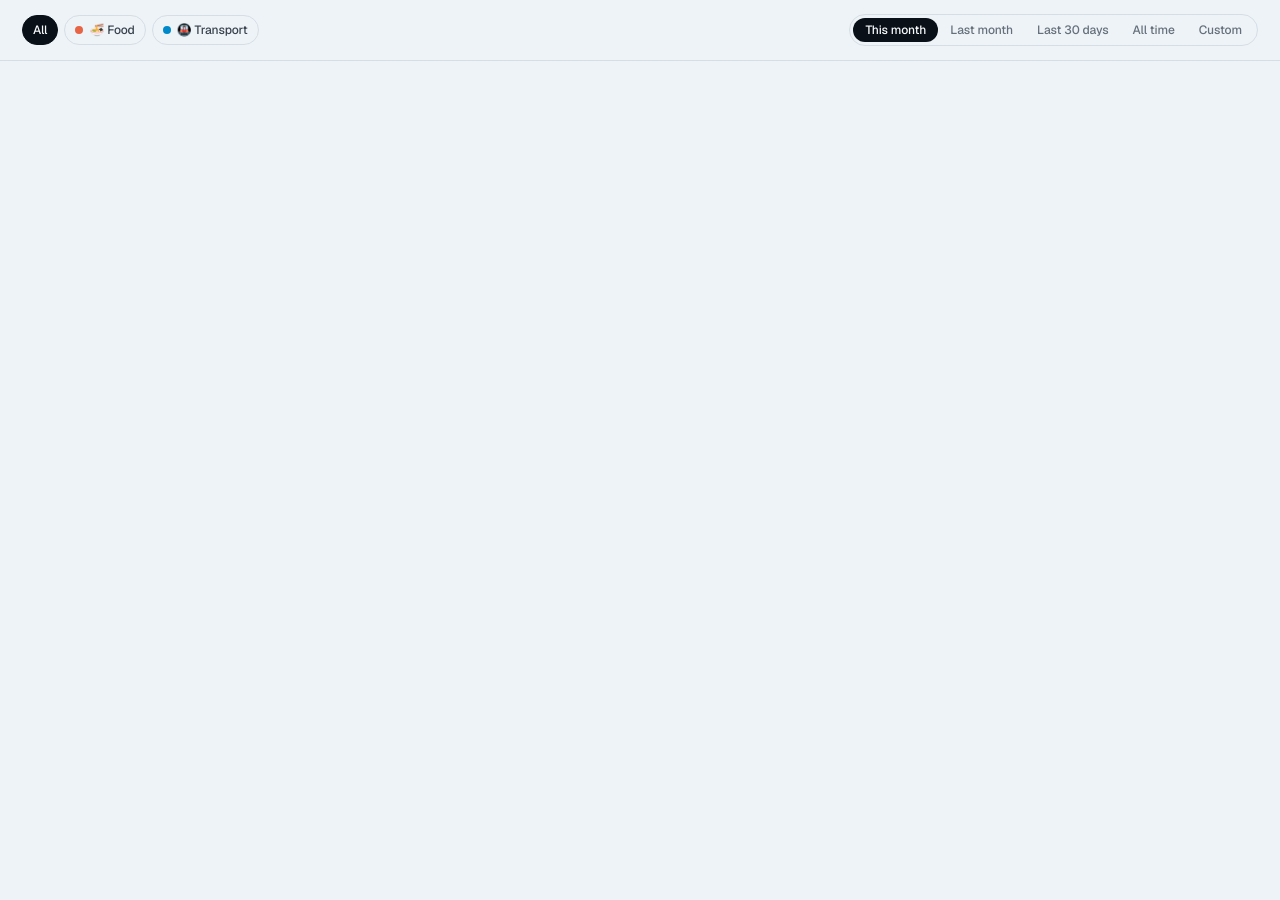
Scenario: FilterBar — Custom segment and popover › clicking Custom segment opens the CustomRangePopover
The width and height of the screenshot is (1280, 900).
What coordinates should you click on to do the following:
click the button "Custom"
I would click on:
 (1220, 30)
Its box is [1187,18,1254,42].
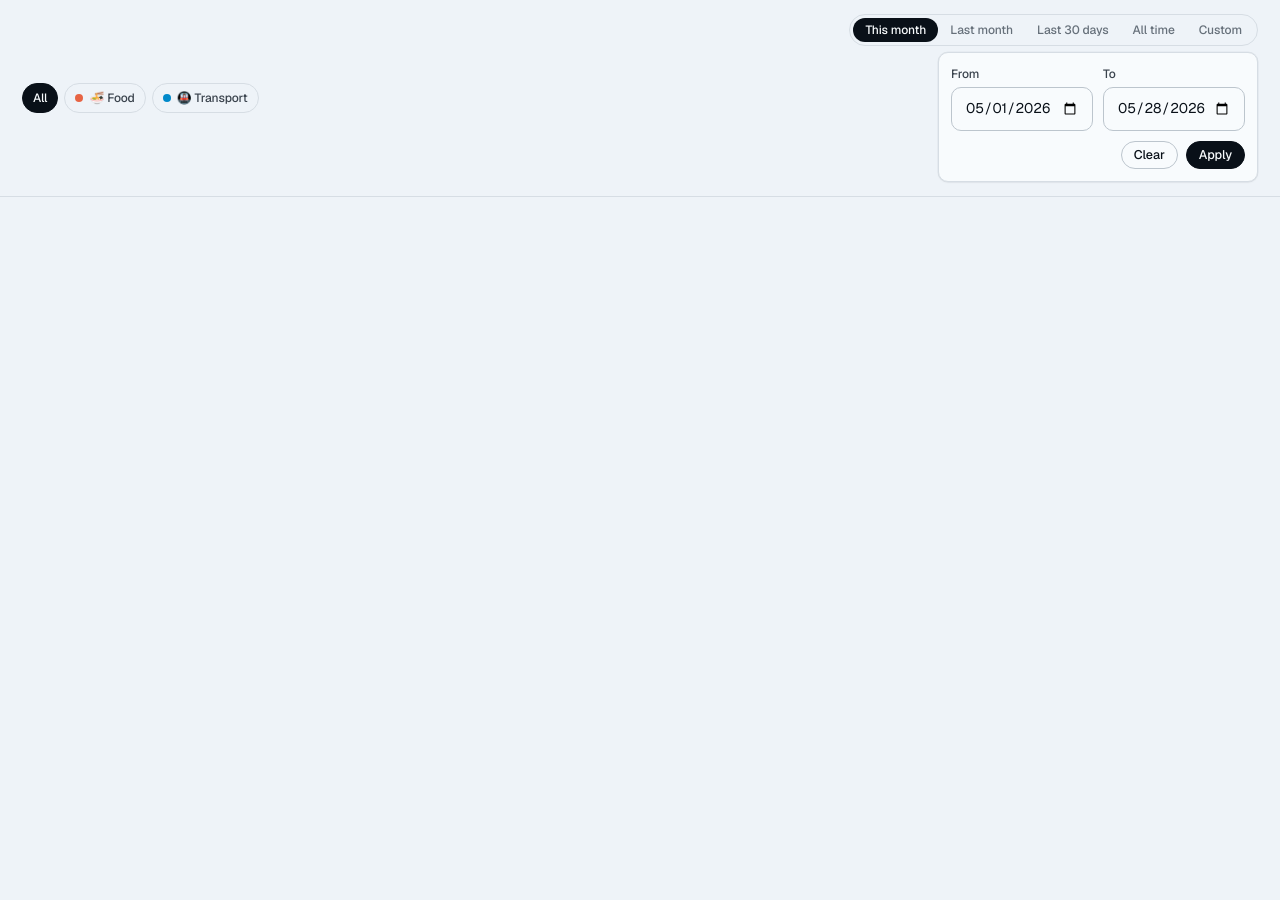
Result: the dialog is shown at [938,52,1258,182]
